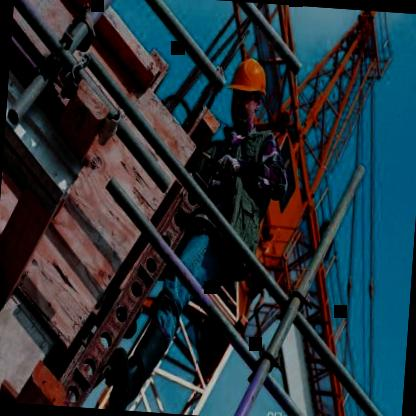helmet: (226, 50, 272, 126)
